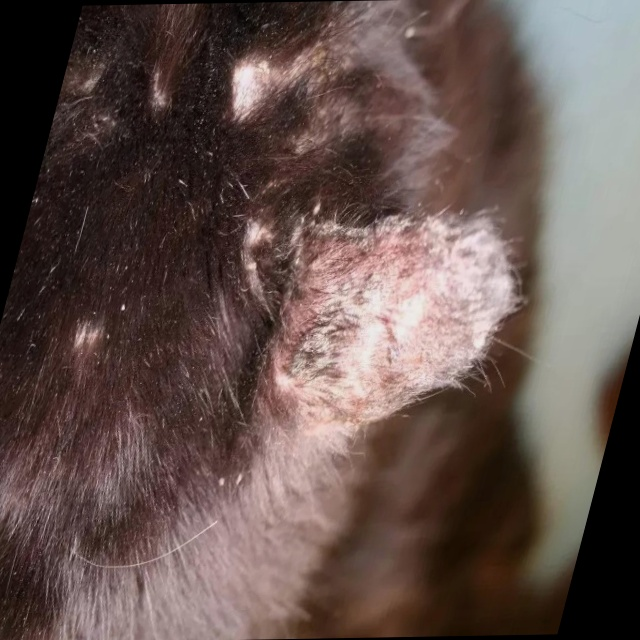ringworm: (282, 245, 453, 397)
